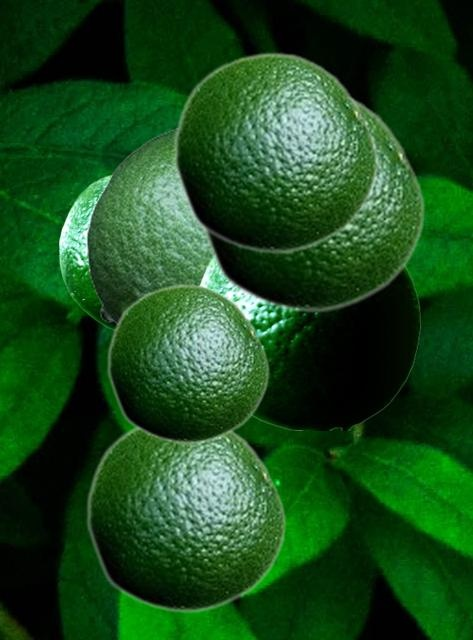calamansi: (198, 94, 425, 313), (172, 51, 378, 254), (198, 258, 419, 429), (85, 426, 286, 613), (106, 283, 269, 444), (86, 126, 210, 325), (59, 174, 114, 330)
